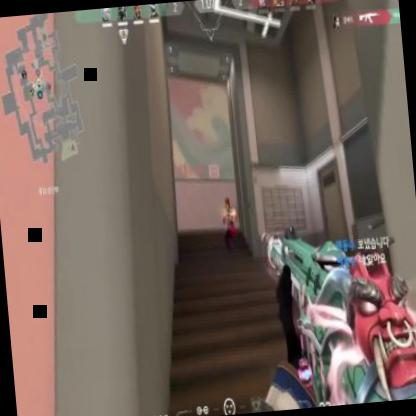enemy: (219, 194, 242, 255)
enemy_head: (224, 197, 232, 214)
